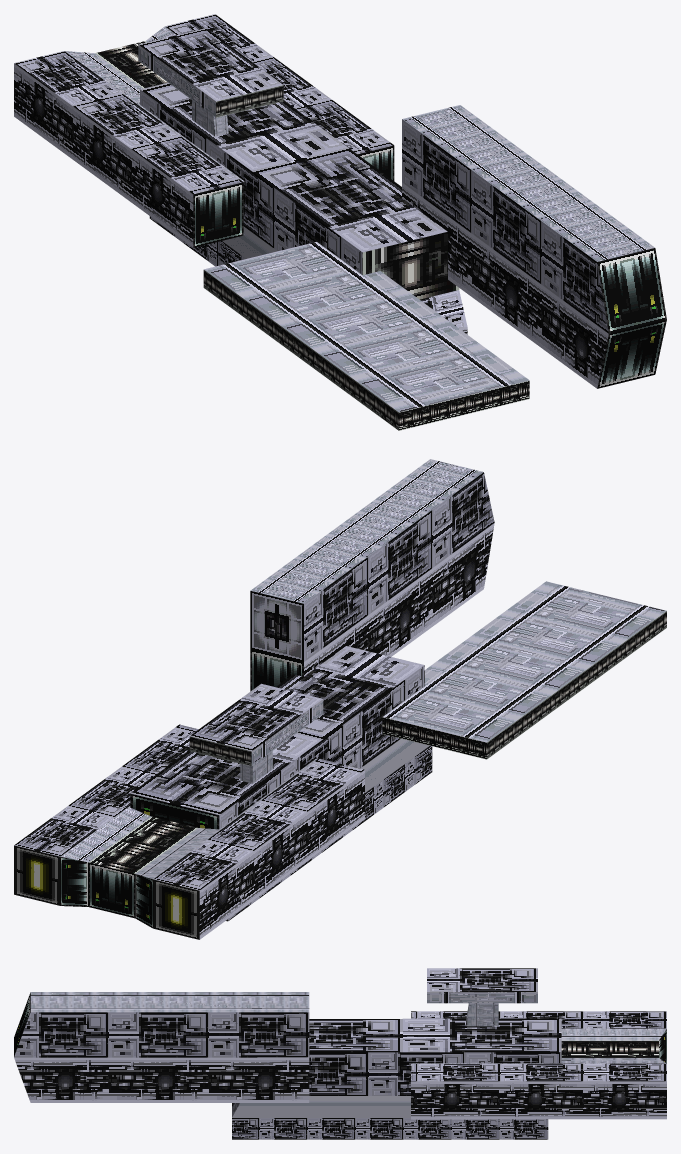
File: Cornerian Battleship.dae
3 renders of one model, top to bottom at view 1: azimuth 30°, elevation 25°; view 2: azimuth 150°, elevation 25°; view 3: azimuth 270°, elevation 25°, orthographic. The views are drawn at different scales.
Visible parts, largest first — view 1: coropen, corhull, core, corpipe, corbay; view 2: coropen, corhull, core, corpipe, corbay, thruster, corplate; view 3: coropen, core, corhull, corpipe, corbay.
Boxes of the visible parts, <box> form: coropen: <box>14,14,608,333</box>; corhull: <box>65,26,654,412</box>; core: <box>14,63,608,388</box>; corpipe: <box>95,41,529,430</box>; corbay: <box>193,145,666,388</box>; coropen: <box>14,472,494,921</box>; corhull: <box>61,459,666,878</box>; core: <box>199,523,494,939</box>; corpipe: <box>89,611,666,873</box>; corbay: <box>60,649,303,928</box>; thruster: <box>14,845,227,939</box>; corplate: <box>250,591,303,661</box>; coropen: <box>14,968,666,1139</box>; core: <box>14,1057,666,1119</box>; corhull: <box>30,992,666,1117</box>; corpipe: <box>561,1040,658,1057</box>; corbay: <box>14,992,666,1063</box>.
Size of the model in its own units: 1407 by 1032 by 4253.
7 materials, 7 textured.
